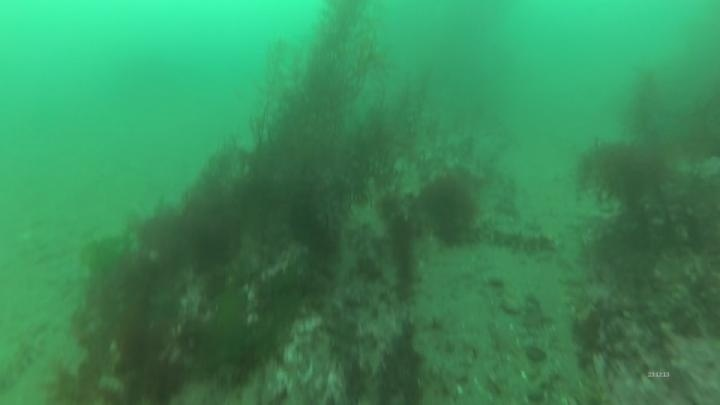holothurian: (477, 218, 560, 256)
